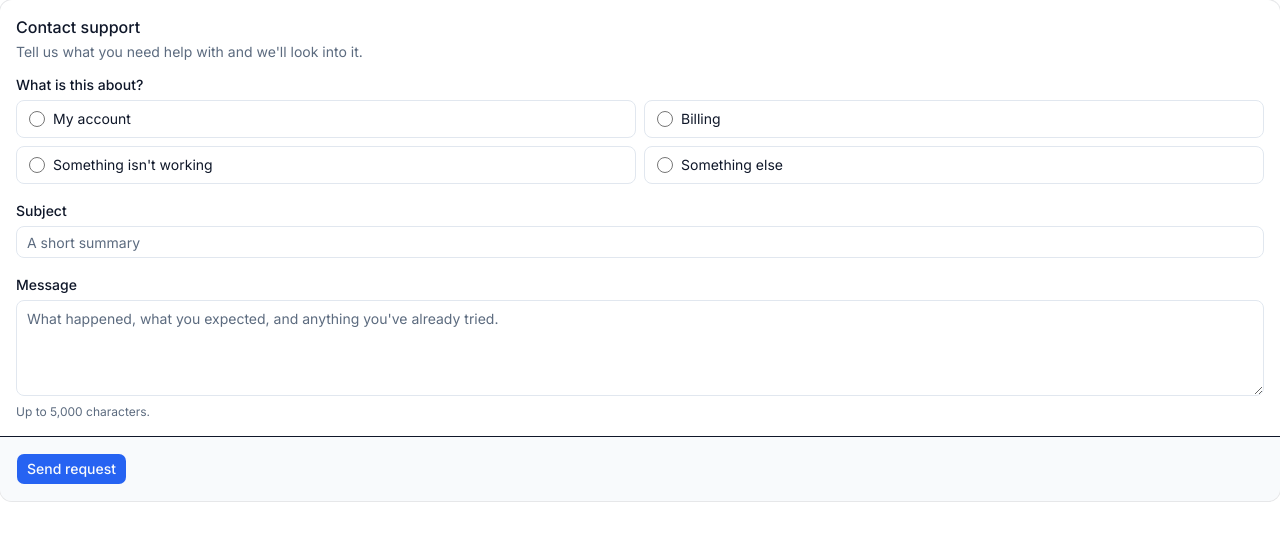
Scenario: SupportRequestForm – validation errors from the server › keeps the message's hint in its description next to the error
Click the radio button labelled "Billing" at [665, 119], box 657,111 -> 673,127
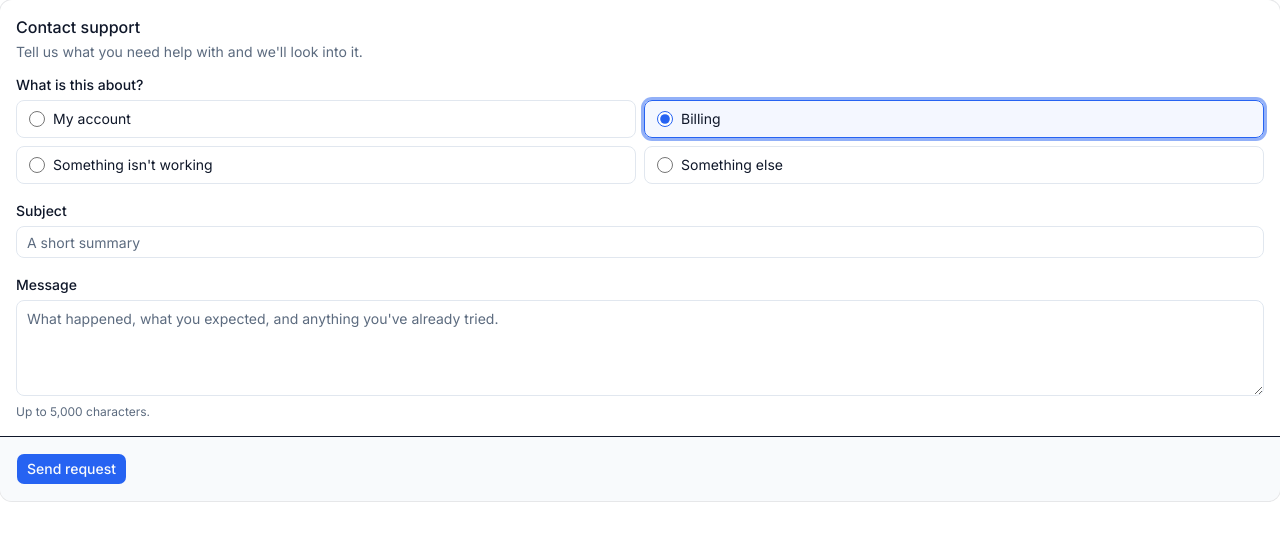
Type "Charged twice" into the field labelled "Subject" at [640, 242], box 16,226 -> 1264,258
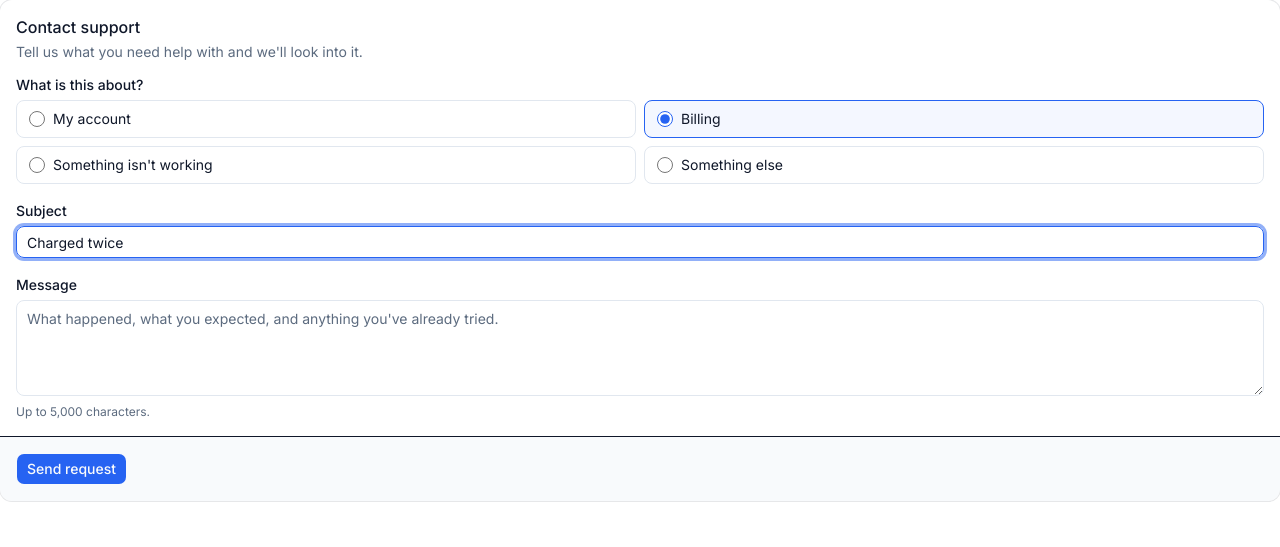
Replace the text in the text box labelled "Message" with "I see two charges." at [640, 348], box 16,300 -> 1264,396
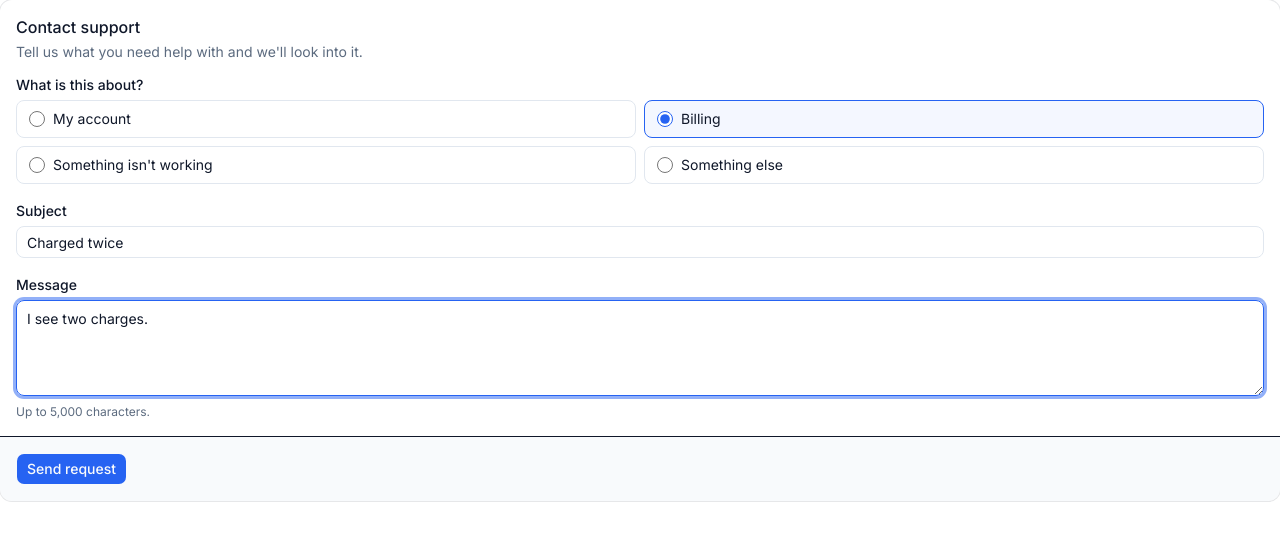
Click the button "Send request" at [72, 469], box 16,453 -> 127,485
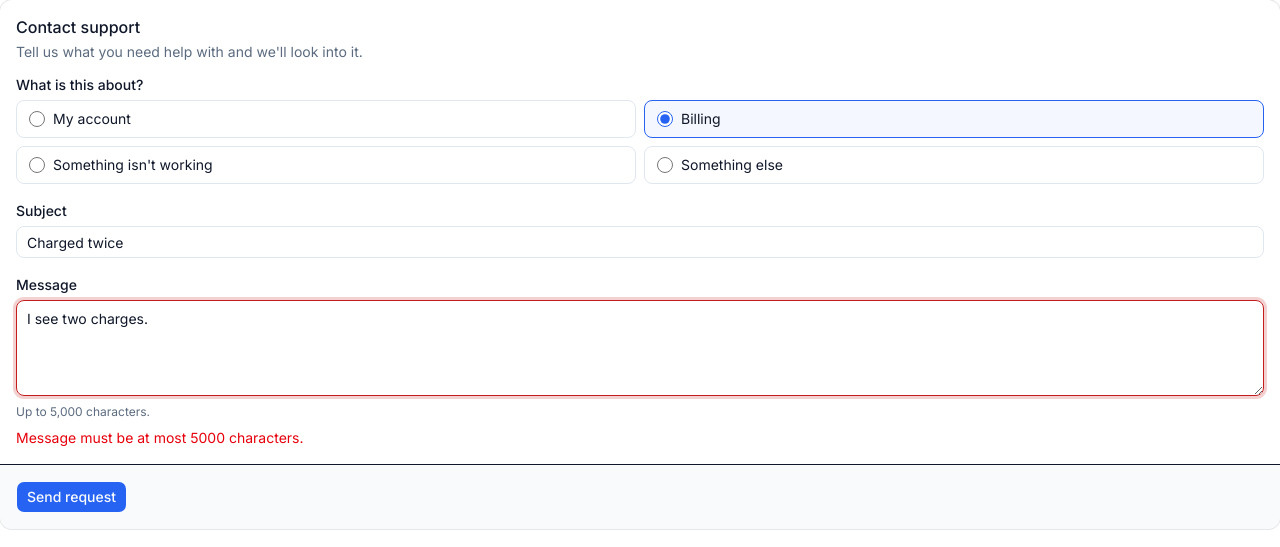
Expected: the message "Message must be at most 5000 characters." is shown, 16,429 -> 304,446
